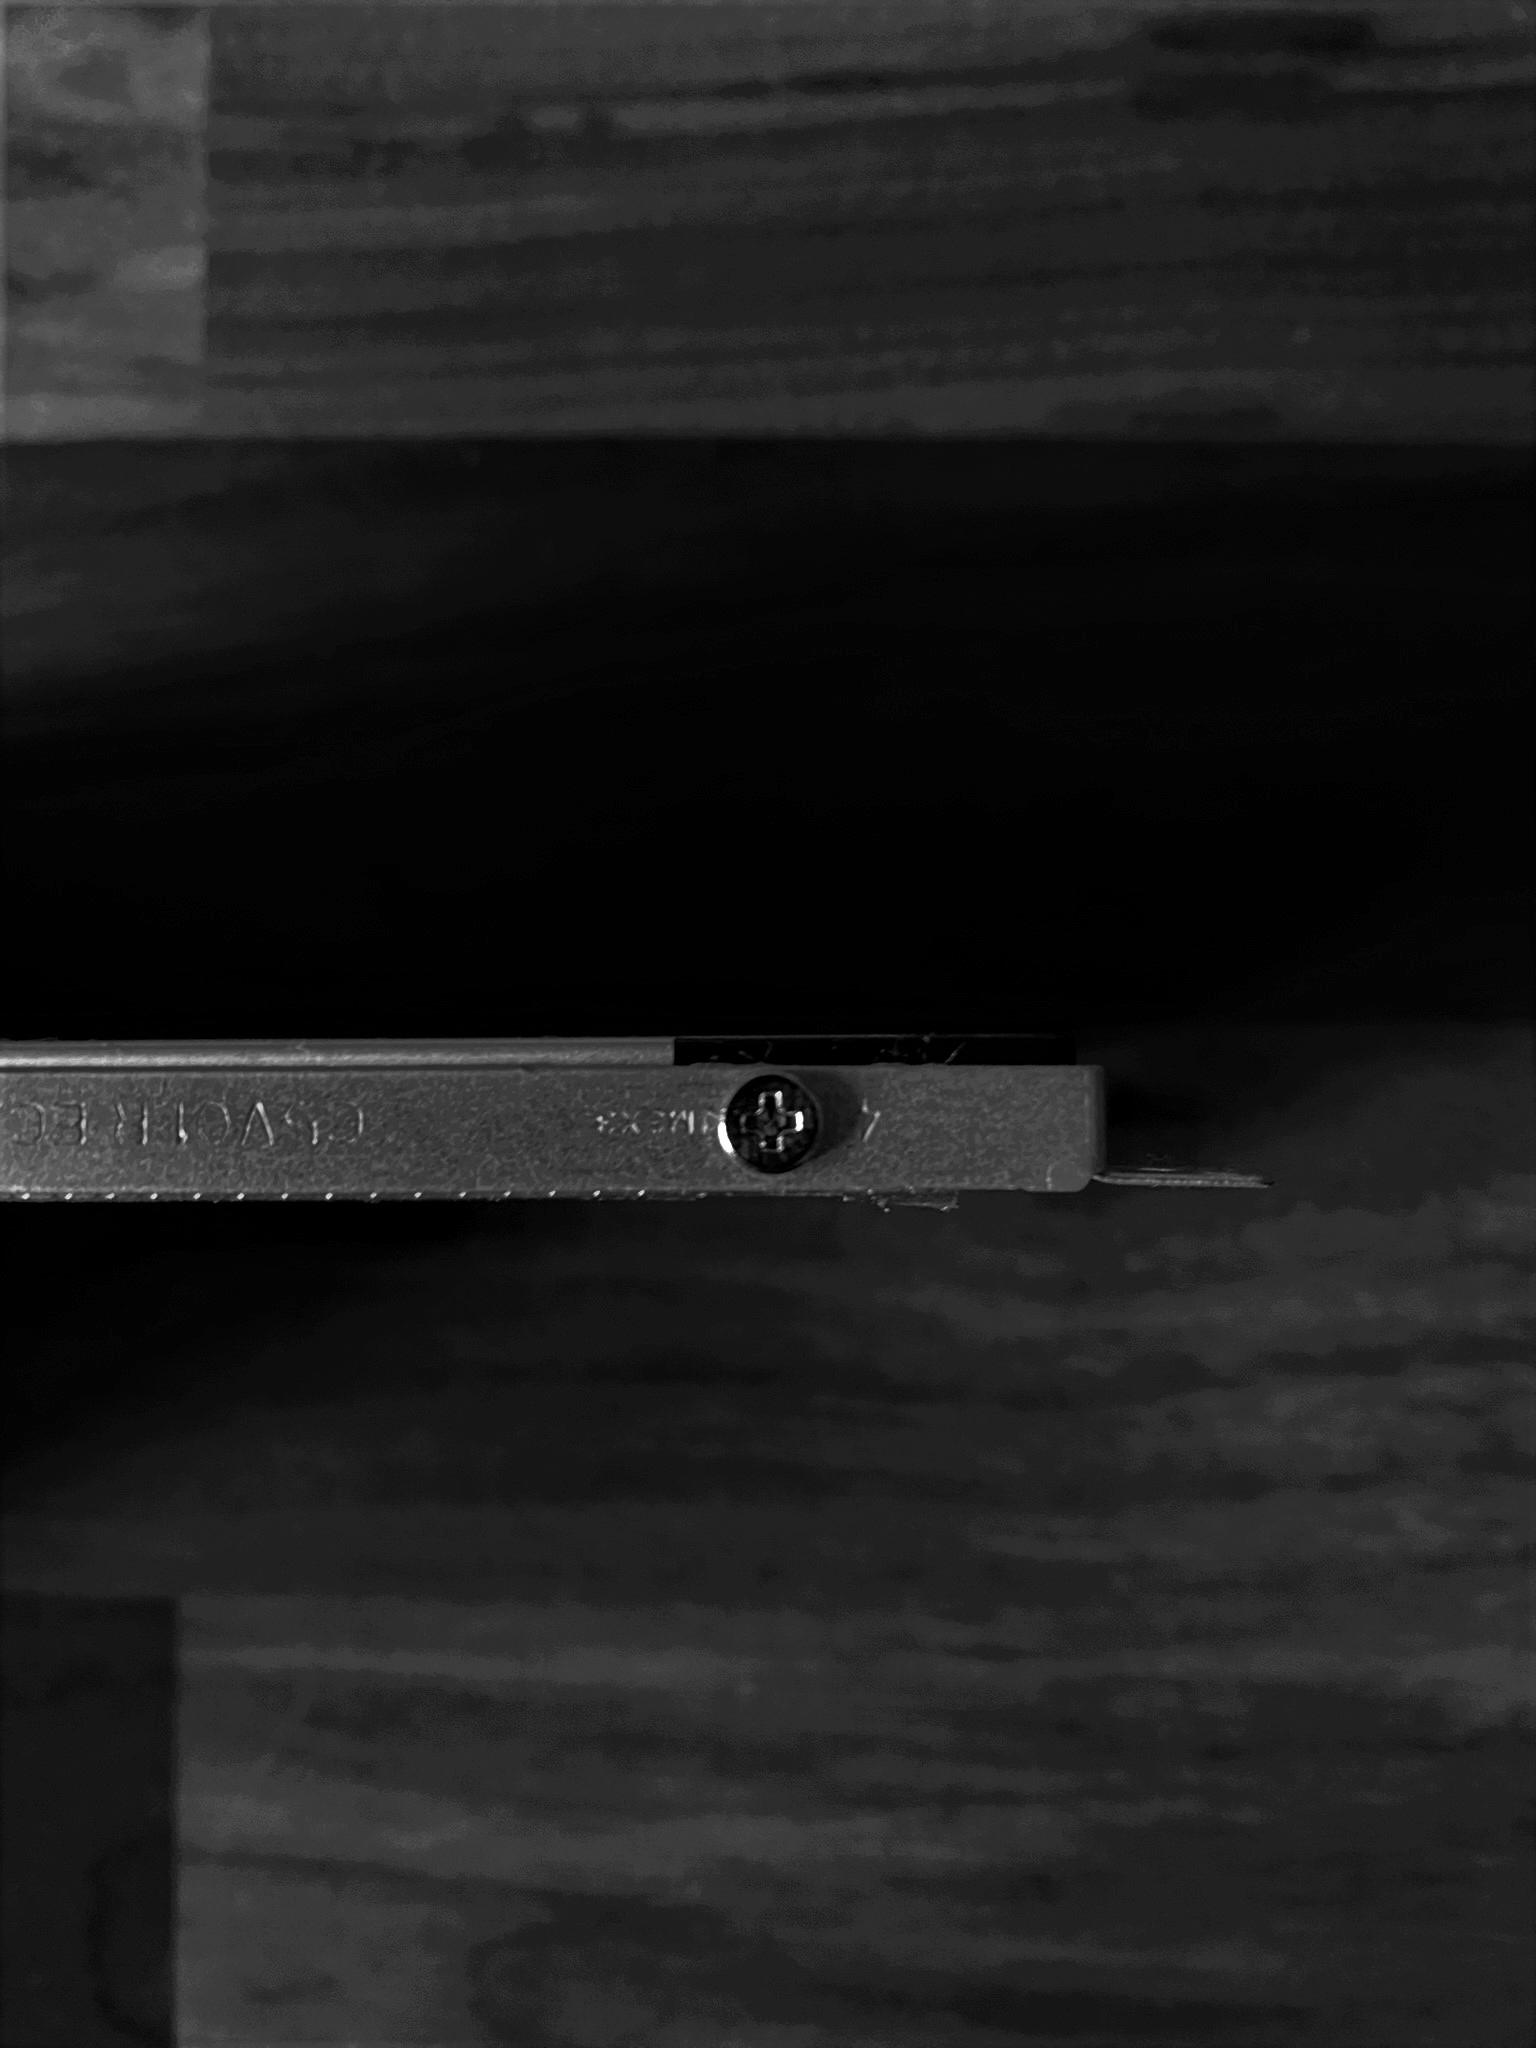screw: (712, 1068, 826, 1176)
